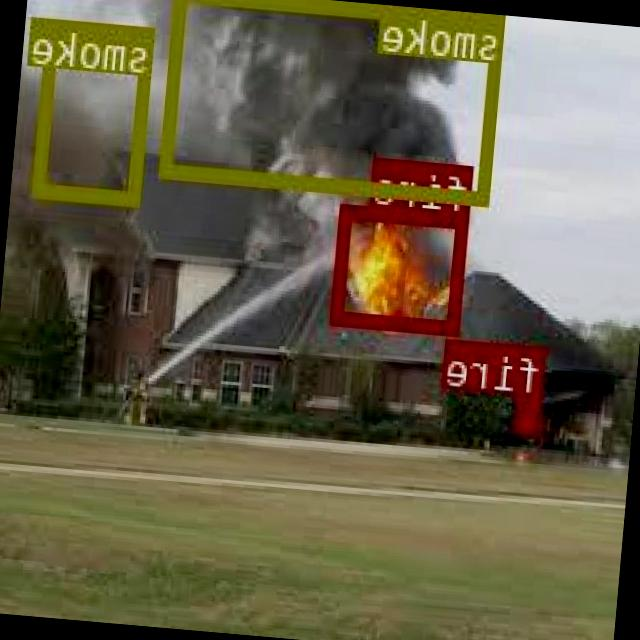fire: (334, 202, 471, 333), (520, 392, 544, 431)
smoke: (163, 0, 508, 204), (34, 16, 156, 203)
